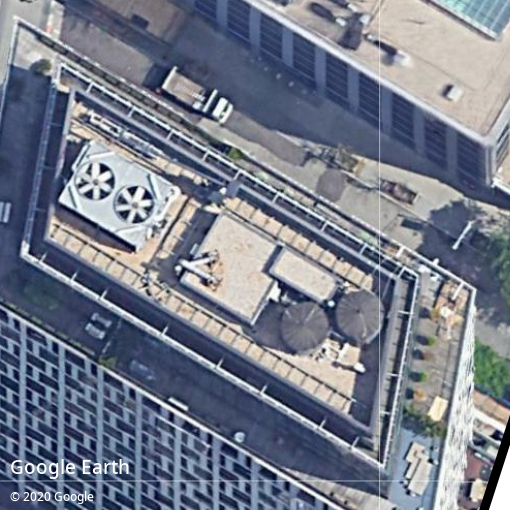Vent: (75, 161, 115, 201), (115, 185, 154, 224)
